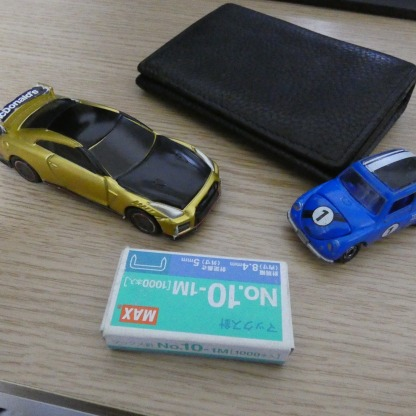car: (0, 82, 228, 235), (286, 148, 416, 266)
